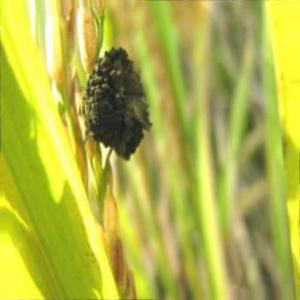Leaf_Scald: (90, 53, 143, 159)
